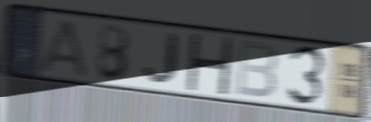3: (281, 44, 330, 108)
8: (94, 22, 131, 83)
A: (37, 17, 90, 80)
B: (233, 37, 280, 101)
H: (184, 31, 235, 97)
J: (143, 32, 180, 87)
